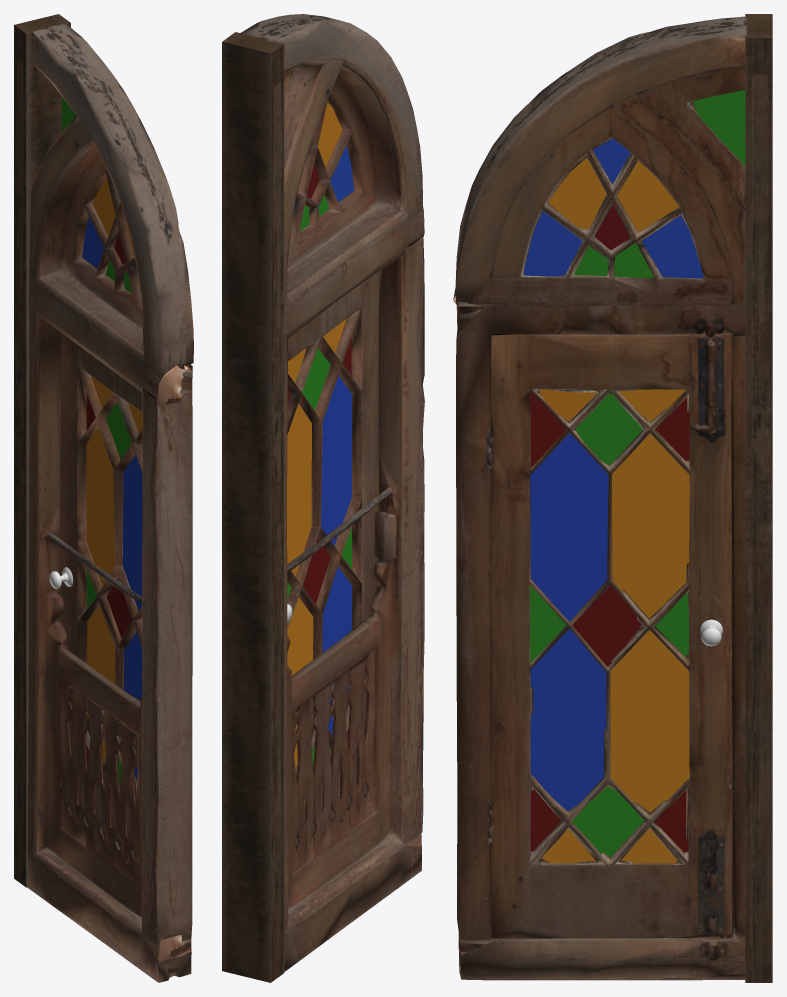
File: E_Door_Right.fbx
3 renders of one model, left to right at view 1: azimuth 30°, elevation 25°; view 2: azimuth 150°, elevation 25°; view 3: azimuth 270°, elevation 25°, orthographic. The views are drawn at different scales.
Parts seen in each view (by area): view 1: SM_EntranceDoor_Right2_LOD0; view 2: SM_EntranceDoor_Right2_LOD0; view 3: SM_EntranceDoor_Right2_LOD0.
Boxes of the visible parts, x1,y1,x2,y2 form: SM_EntranceDoor_Right2_LOD0: (14,14,193,982); SM_EntranceDoor_Right2_LOD0: (222,14,424,982); SM_EntranceDoor_Right2_LOD0: (453,14,772,982).
Bounding box in the file's own units: 31.2 × 475 × 145.
